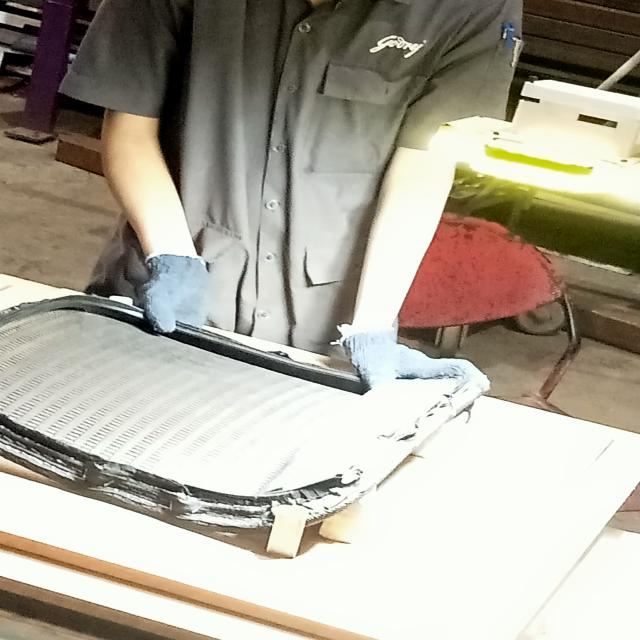Gloves-Detection: (325, 334, 492, 392), (127, 246, 221, 330)
